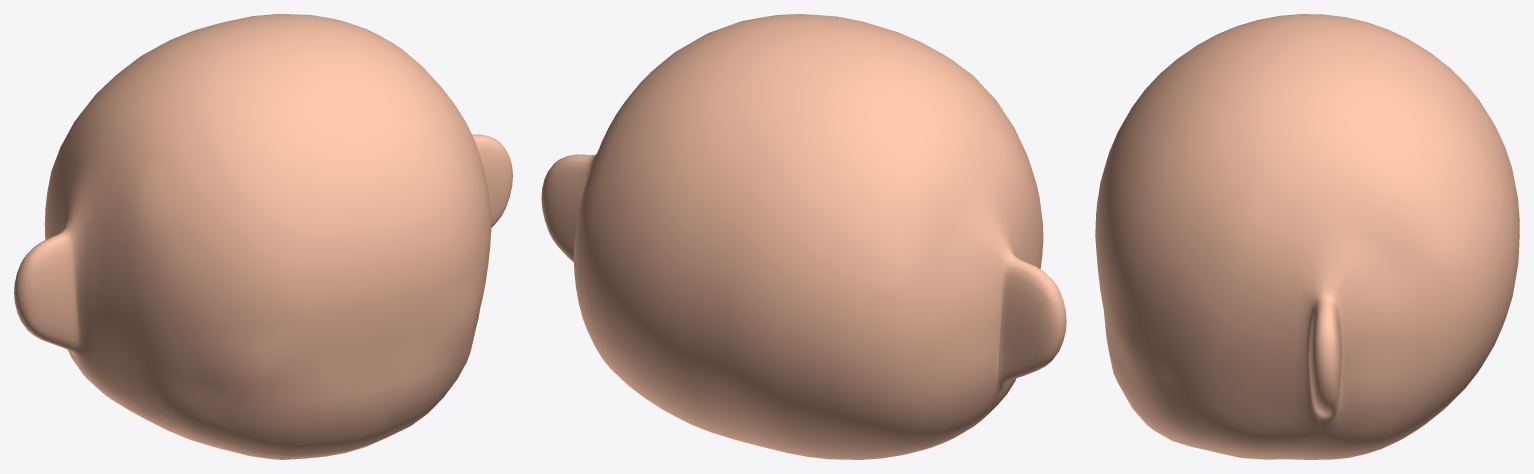
Rendered from new_head.glb.
3 views of the same model, side by side, from view 1: azimuth 30°, elevation 25°; view 2: azimuth 150°, elevation 25°; view 3: azimuth 270°, elevation 25° (orthographic). The views are drawn at different scales.
Visible parts, largest first — view 1: _polySurface14; view 2: _polySurface14; view 3: _polySurface14.
Part boxes in pixels (x1,y1,x2,y2): _polySurface14: (14,14,512,459); _polySurface14: (541,14,1066,459); _polySurface14: (1095,14,1519,459).
Bounding box in the file's own units: 0.011 × 0.00803 × 0.00799.
